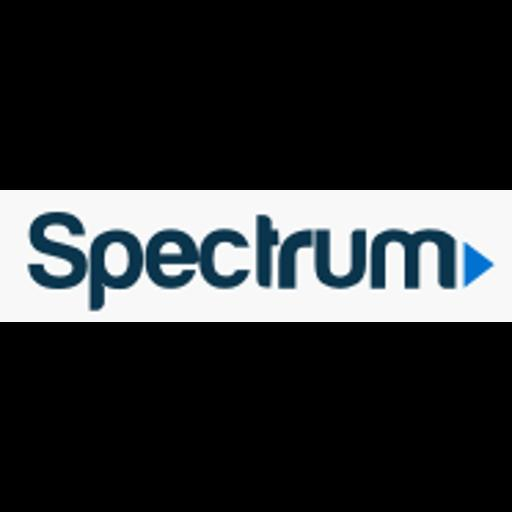Spectrum: (0, 190, 512, 322)
